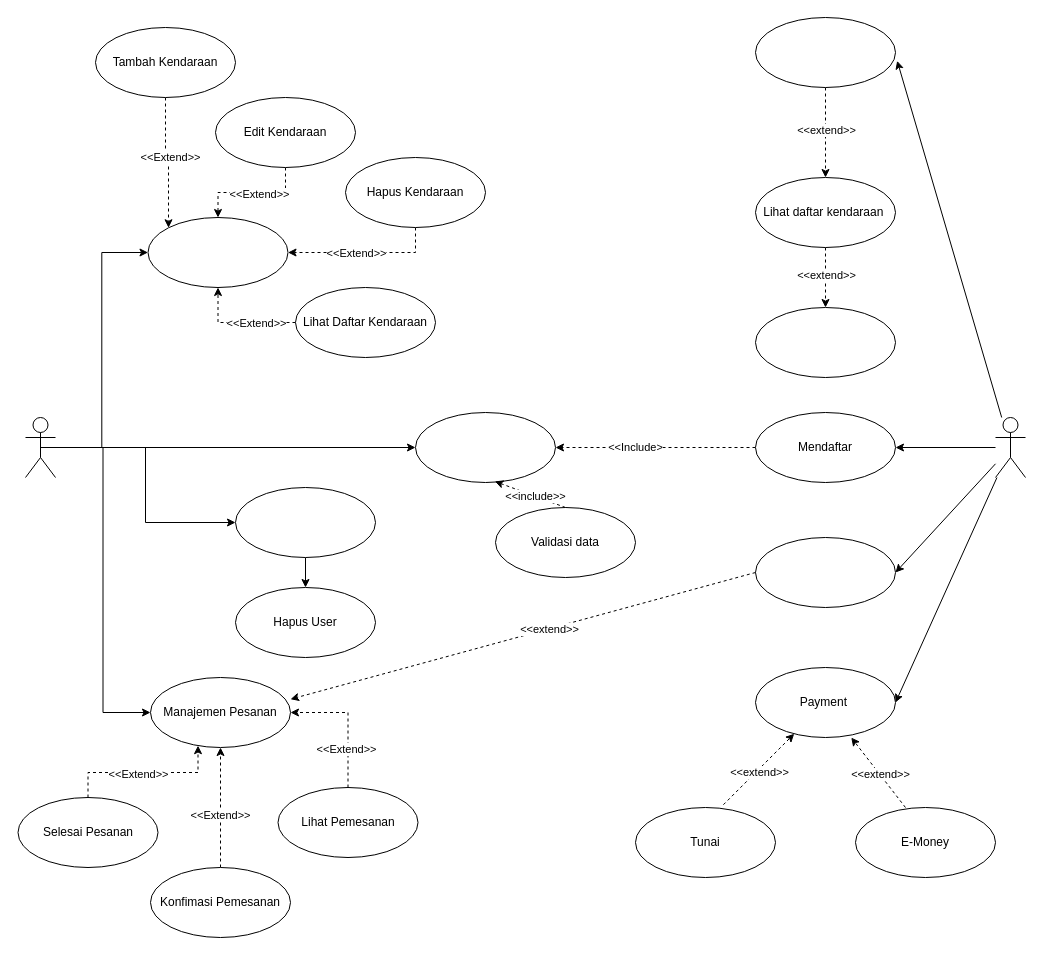
Some shapes in this 1058 by 955 pixel diagram are drawn without their labels. The centre of each missing label's shape, as x and y in pixels:
Admin: pixel 40 447
Home: pixel 825 52
Lihat data pesanan: pixel 825 572
Login: pixel 485 447
Manage User: pixel 305 522
Manajemen Kendaraan: pixel 217 252
Pelanggan: pixel 1010 447
Pesan kendaraan: pixel 825 342
